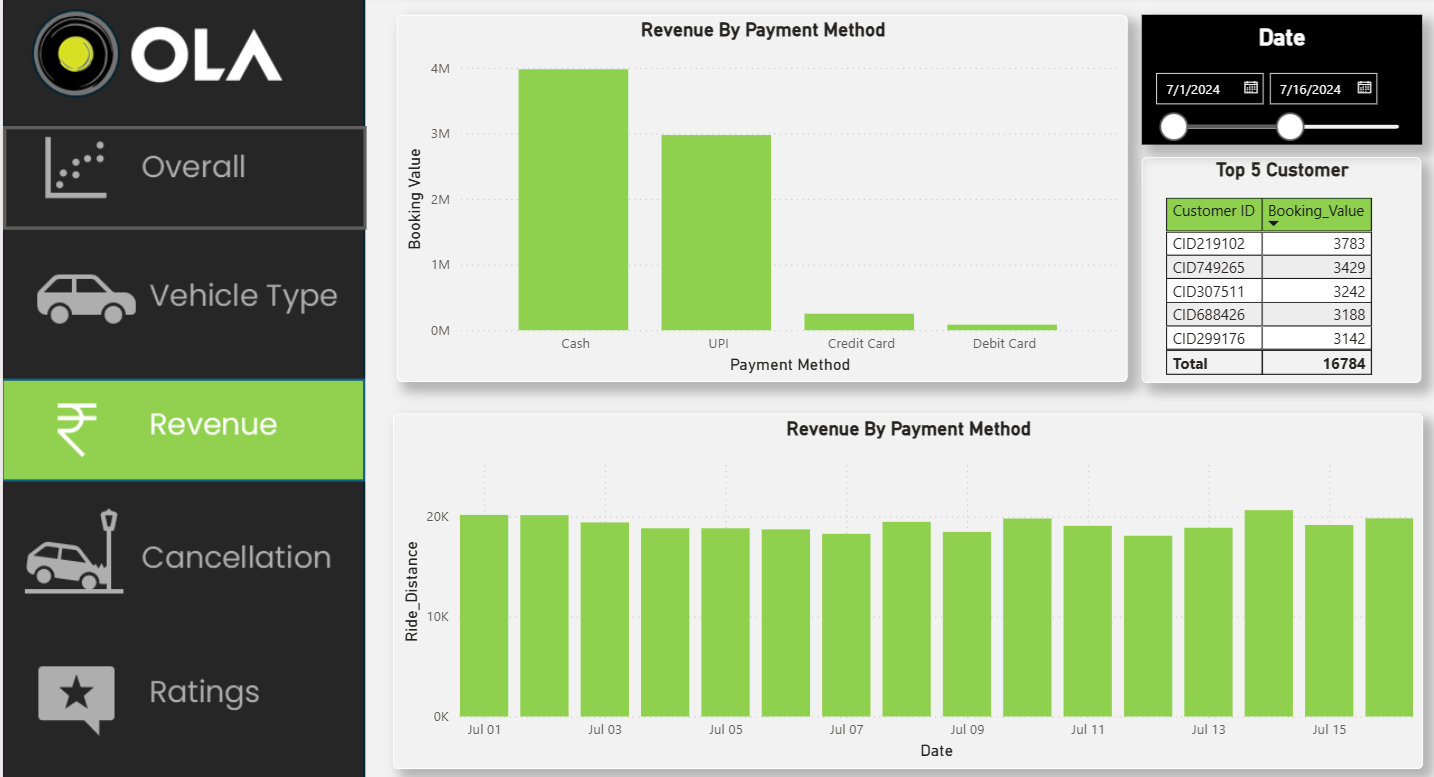

What the dashboard file says about the page in this screenshot:
{"tool":"powerbi","page":{"name":"REVENUE","canvas":[1280,720],"ordinal":2},"visuals":[{"type":"actionButton","box":[0,451.1,321.6,93.8],"z":0},{"type":"actionButton","box":[0,235.6,321.6,93.8],"z":1000},{"type":"actionButton","box":[0,346.2,321.6,82.6],"z":2000},{"type":"actionButton","box":[0,458.9,321.6,93.8],"z":3000},{"type":"actionButton","box":[0,580.6,321.6,93.8],"z":4000},{"type":"actionButton","box":[0,116.1,324.9,92.7],"z":5000},{"type":"columnChart","title":"Revenue By  Payment Method","fields":{"Category":["July.Payment_Method"],"Y":["Sum(July.Booking_Value)"]},"box":[351.9,17.3,653.1,328.4],"z":6000},{"type":"columnChart","title":"Revenue By  Payment Method","fields":{"Y":["Sum(July.Ride_Distance)"],"Category":["July.Date"]},"box":[348.1,372.8,919.8,317.3],"z":7000},{"type":"slicer","title":"Date","fields":{"Values":["July.Date"]},"box":[1017.3,17.3,250.6,116],"z":8000},{"type":"tableEx","title":"Top 5 Customer","fields":{"Values":["July.Customer_ID","Sum(July.Booking_Value)"]},"box":[1017.3,144.4,249.4,201.2],"z":9000}]}

Visuals, with their boxes on the page's 1280x720 design canvas (x1, y1, x2, y2). These are canvas units, not pixel positions in the 1434x777 screenshot, which may show the page scaled, cropped or inside an application window:
actionButton: bbox(0, 451, 322, 545)
actionButton: bbox(0, 236, 322, 329)
actionButton: bbox(0, 346, 322, 429)
actionButton: bbox(0, 459, 322, 553)
actionButton: bbox(0, 581, 322, 674)
actionButton: bbox(0, 116, 325, 209)
"Revenue By  Payment Method" columnChart: bbox(352, 17, 1005, 346)
"Revenue By  Payment Method" columnChart: bbox(348, 373, 1268, 690)
"Date" slicer: bbox(1017, 17, 1268, 133)
"Top 5 Customer" tableEx: bbox(1017, 144, 1267, 346)
